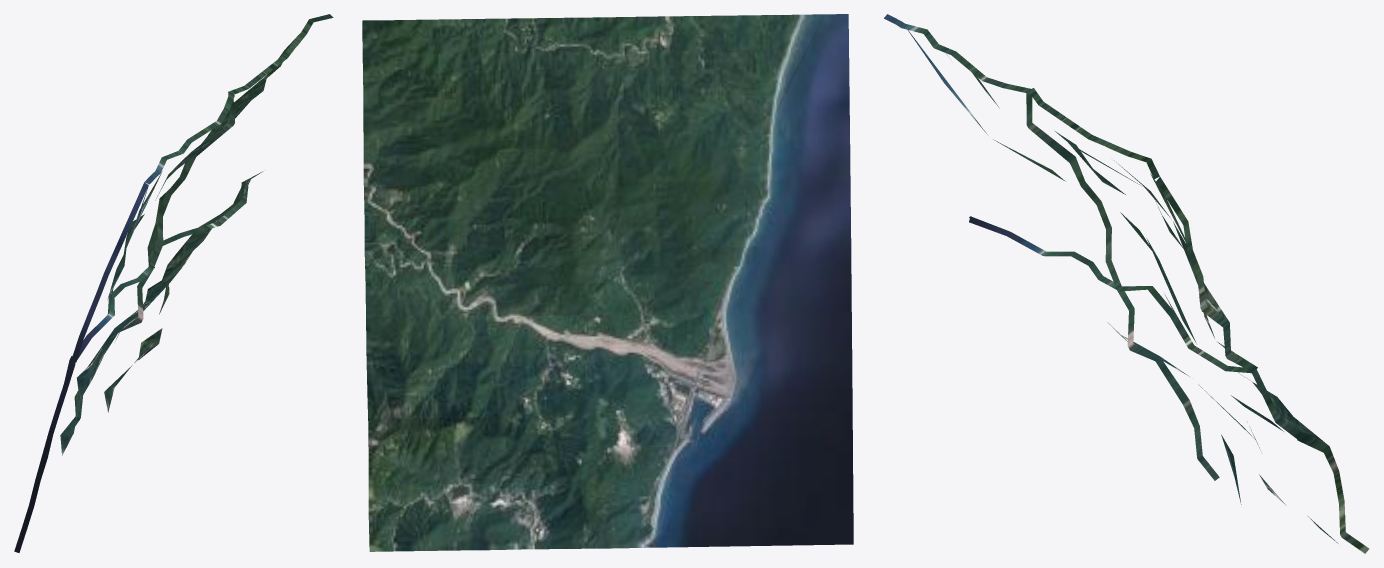
3 renders of one model, left to right at view 1: azimuth 30°, elevation 25°; view 2: azimuth 150°, elevation 25°; view 3: azimuth 270°, elevation 25°, orthographic. The views are drawn at different scales.
Bounding box in the file's own units: 18303 × 19270 × 17993.
Materials: 1 (1 with a texture image).
